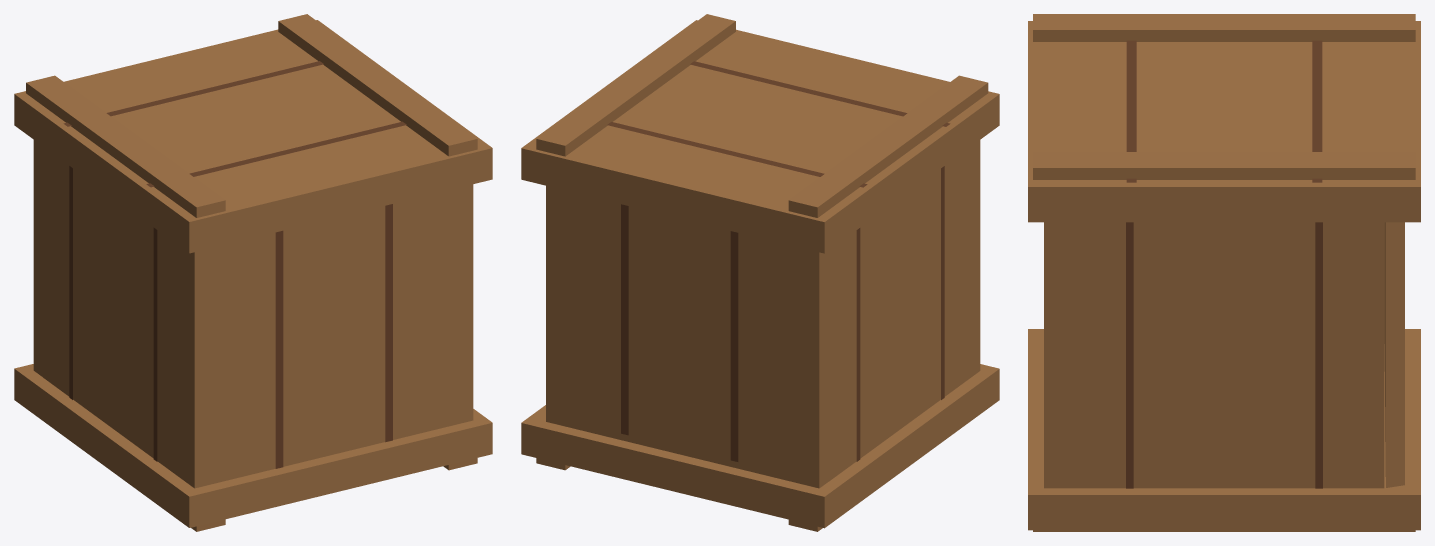
Rendered from DestroyedCrate.glb.
3 views of the same model, side by side, from view 1: azimuth 30°, elevation 25°; view 2: azimuth 150°, elevation 25°; view 3: azimuth 270°, elevation 25° (orthographic). The views are drawn at different scales.
Visible parts, largest first — view 1: DestroyedCrate5, DestroyedCrate22, DestroyedCrate6, DestroyedCrate3, DestroyedCrate4; view 2: DestroyedCrate22, DestroyedCrate4, DestroyedCrate6, DestroyedCrate3, DestroyedCrate5; view 3: DestroyedCrate1, DestroyedCrate22, DestroyedCrate3, DestroyedCrate5, DestroyedCrate4.
Boxes of the visible parts, x1,y1,x2,y2 form: DestroyedCrate5: (185, 184, 473, 488); DestroyedCrate22: (14, 14, 492, 253); DestroyedCrate6: (42, 146, 185, 480); DestroyedCrate3: (14, 364, 492, 531); DestroyedCrate4: (33, 140, 42, 376); DestroyedCrate22: (521, 14, 999, 253); DestroyedCrate4: (546, 185, 828, 488); DestroyedCrate6: (828, 147, 970, 481); DestroyedCrate3: (521, 364, 999, 531); DestroyedCrate5: (970, 140, 980, 377); DestroyedCrate1: (1064, 222, 1384, 488); DestroyedCrate22: (1028, 14, 1420, 222); DestroyedCrate3: (1028, 329, 1420, 531); DestroyedCrate5: (1044, 222, 1065, 488); DestroyedCrate4: (1384, 222, 1404, 487).
Size of the model in its own units: 1.09 by 1.11 by 1.09.
Materials: 6 (6 with a texture image).
